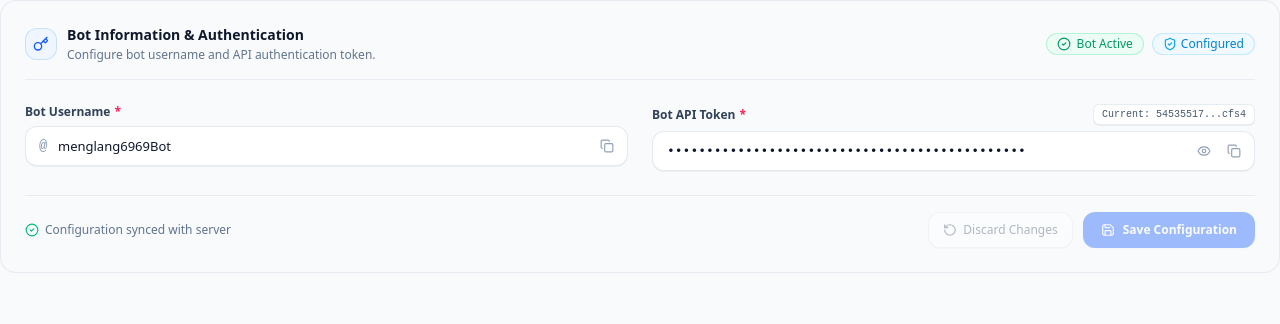
Test: TelegramBotConfigForm.vue › discards changes when Discard Changes button is clicked
Type "temporaryBotName" into the field with placeholder "menglang6969Bot" at coordinates (326, 146), box [25,126,628,166]
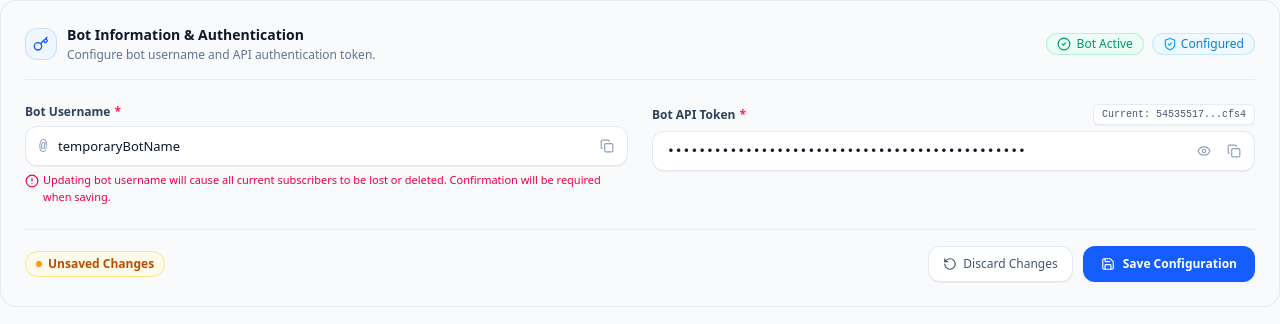
Click the button "Discard Changes" at coordinates (1001, 264), box [928,246,1073,282]
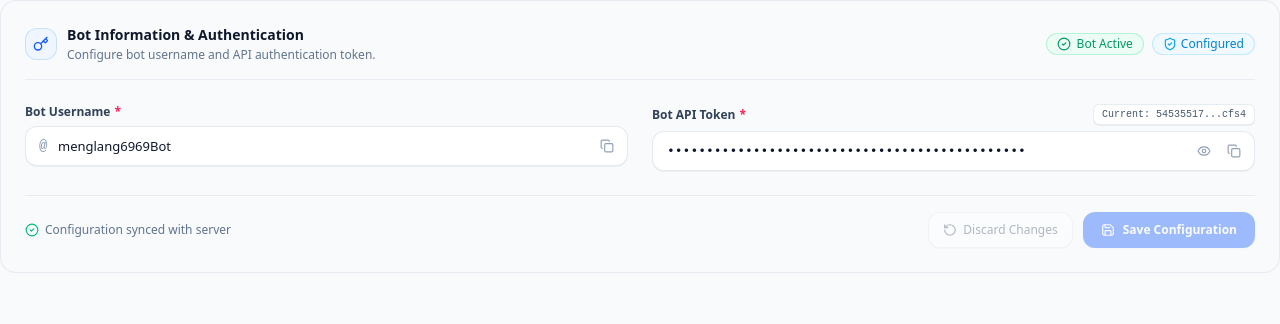
Now the field with placeholder "menglang6969Bot" holds "menglang6969Bot", box [25,126,628,166]
Now the text "Configuration synced with server" is shown, box [45,222,231,238]
